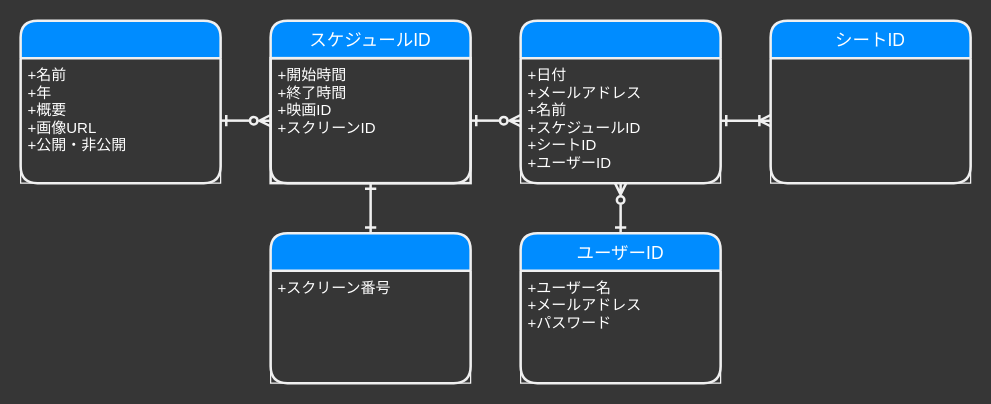
The diagram is 991 pixels wide and 404 high, and some of its shapes have lost their labels. The shapes that lost their labels are listed below. From the top down, each one's box as (x1, y1, x2, y2) in pixels, then its label:
(19, 19, 221, 184): 映画ID
(519, 19, 721, 184): 予約ID
(769, 57, 971, 183): +列 +行
(269, 231, 471, 384): スクリーンID
